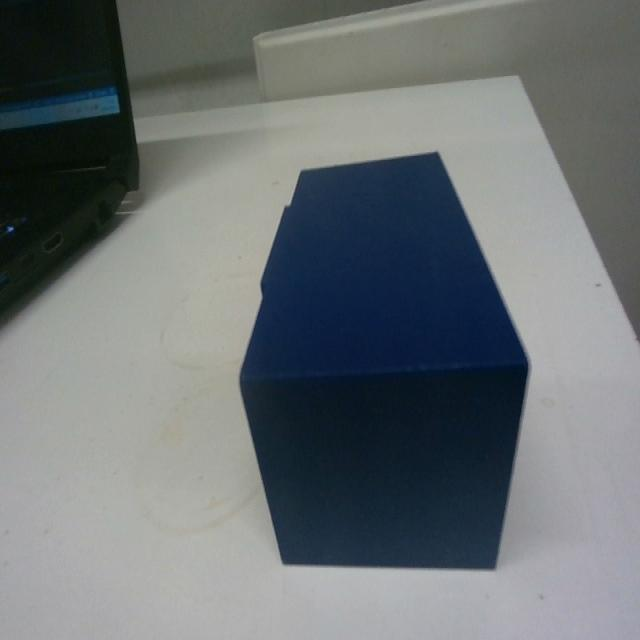Blue Cuboid: (236, 147, 532, 570)
